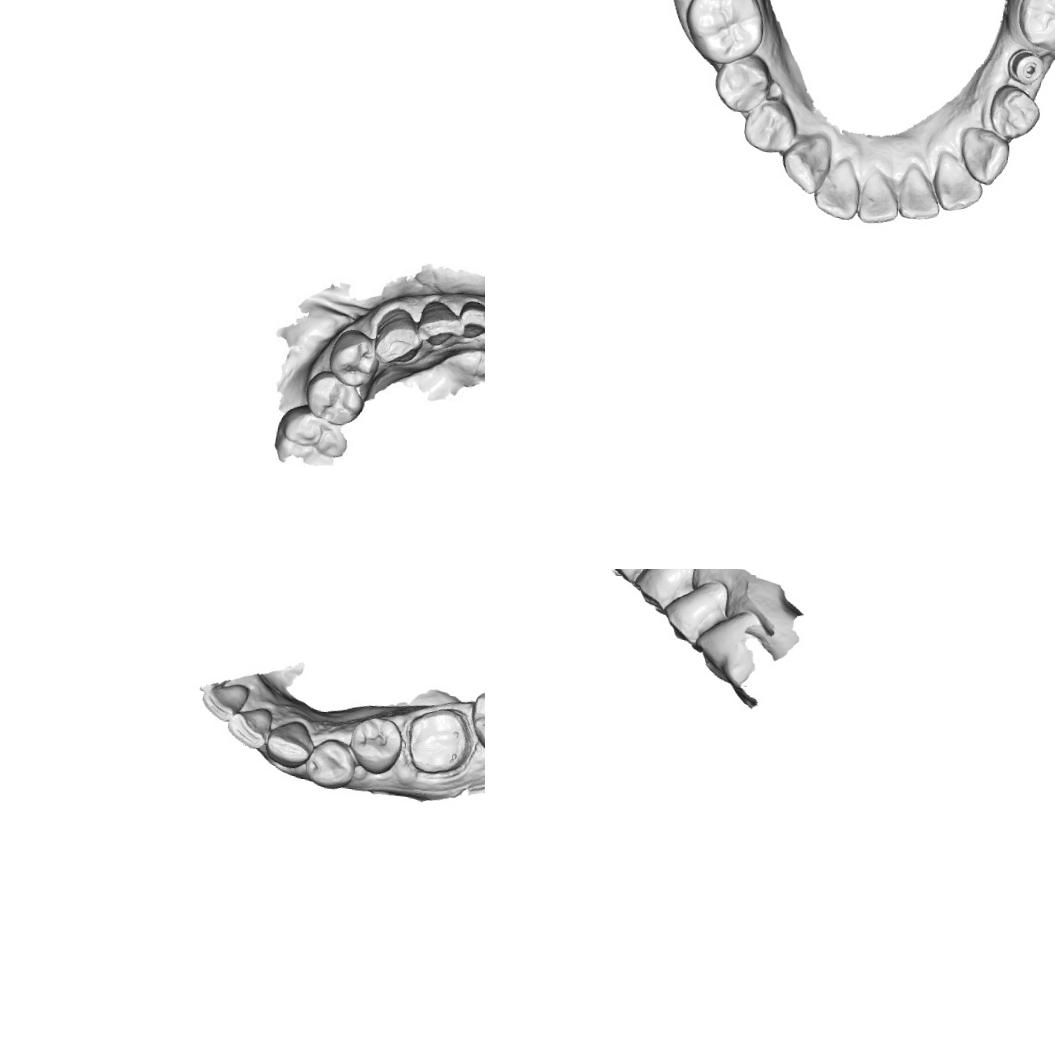canine: (778, 128, 834, 196), (956, 125, 1013, 187), (369, 302, 420, 368), (263, 716, 317, 772)
crown: (402, 702, 475, 779)
implant_minus: (1005, 48, 1047, 88)
incisor: (930, 150, 987, 214), (811, 154, 863, 222), (896, 160, 945, 222), (854, 164, 902, 226), (223, 702, 275, 752), (198, 679, 252, 725), (420, 303, 461, 352), (456, 294, 485, 347)
molar: (681, 0, 769, 69), (1015, 0, 1055, 55), (466, 677, 485, 765)
premolar: (710, 50, 774, 116), (300, 368, 368, 429), (346, 712, 406, 778), (325, 326, 383, 390), (740, 95, 800, 156), (986, 82, 1044, 142), (302, 734, 358, 792)
